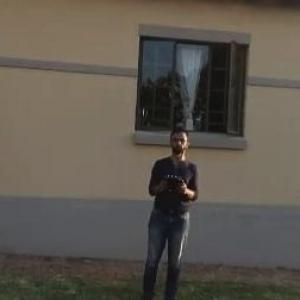follow: (137, 124, 201, 299)
